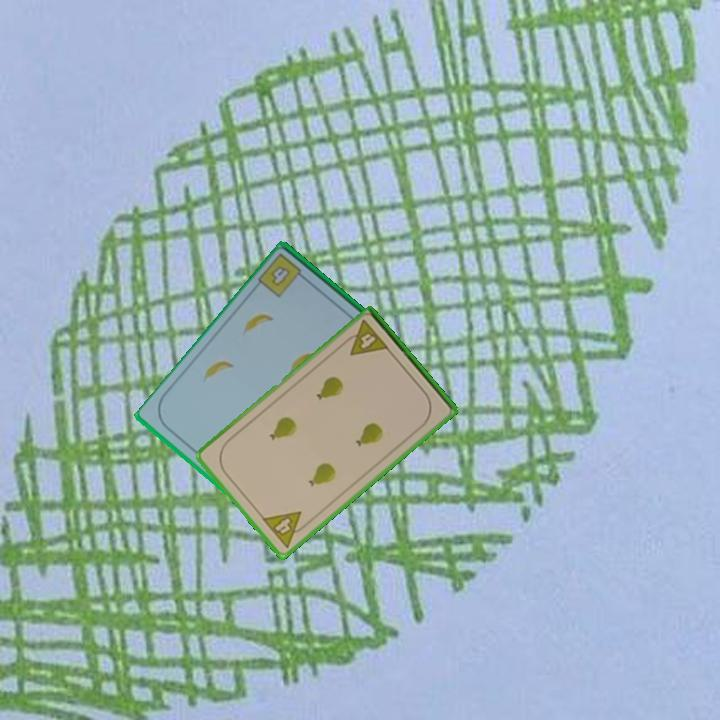4b: (255, 250, 311, 301)
4p: (258, 508, 313, 551), (339, 316, 392, 359)
